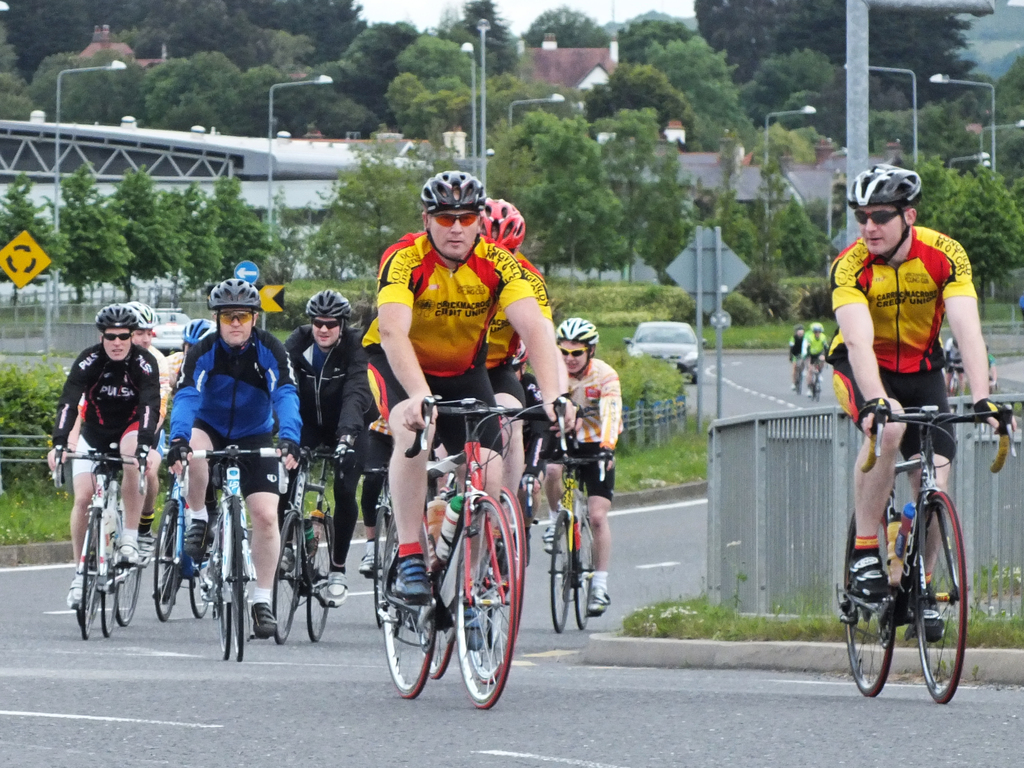Bike: (352, 412, 563, 703)
